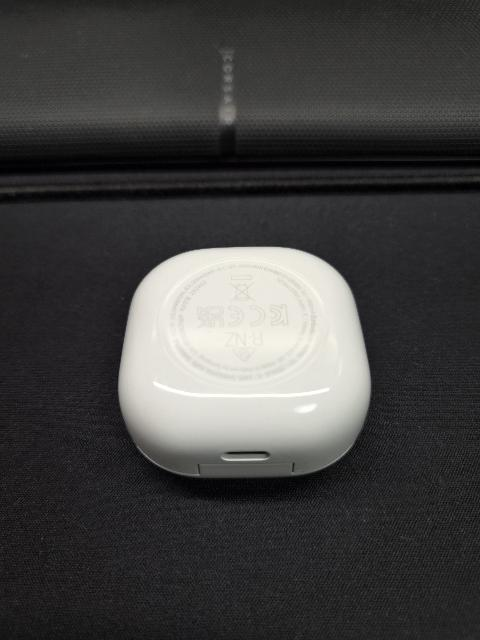earphone_case: (118, 246, 372, 479)
